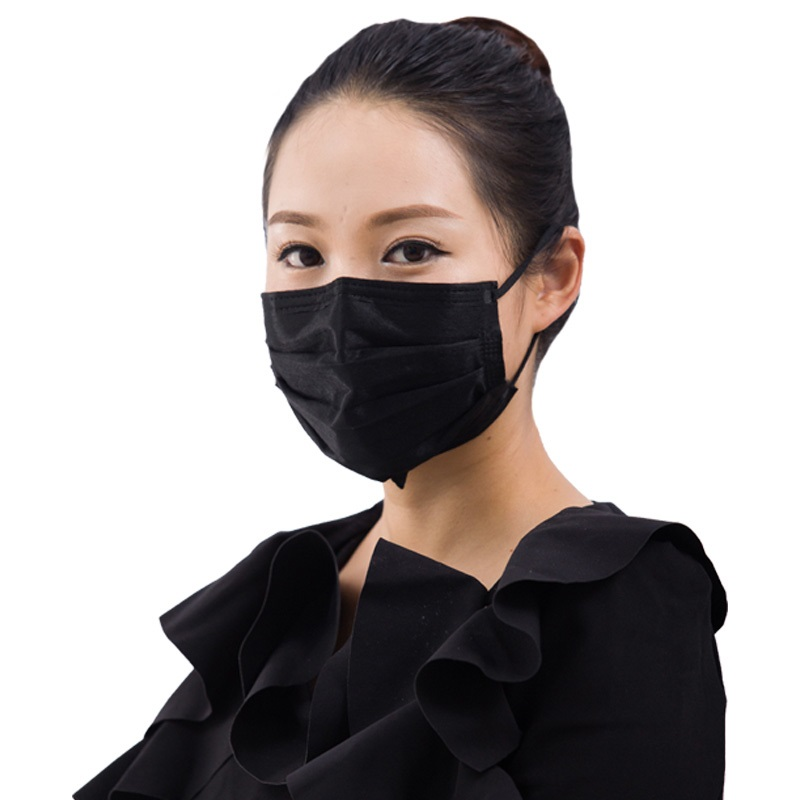face_mask: (263, 105, 516, 475)
